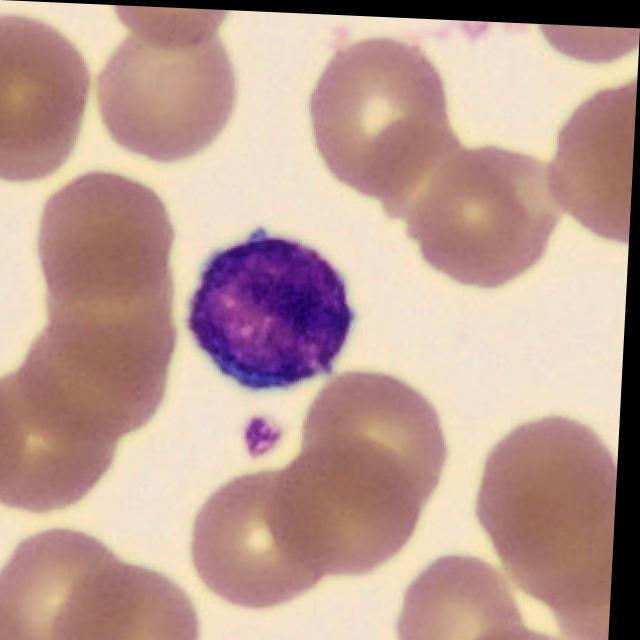Linfocito: (191, 223, 359, 385)
